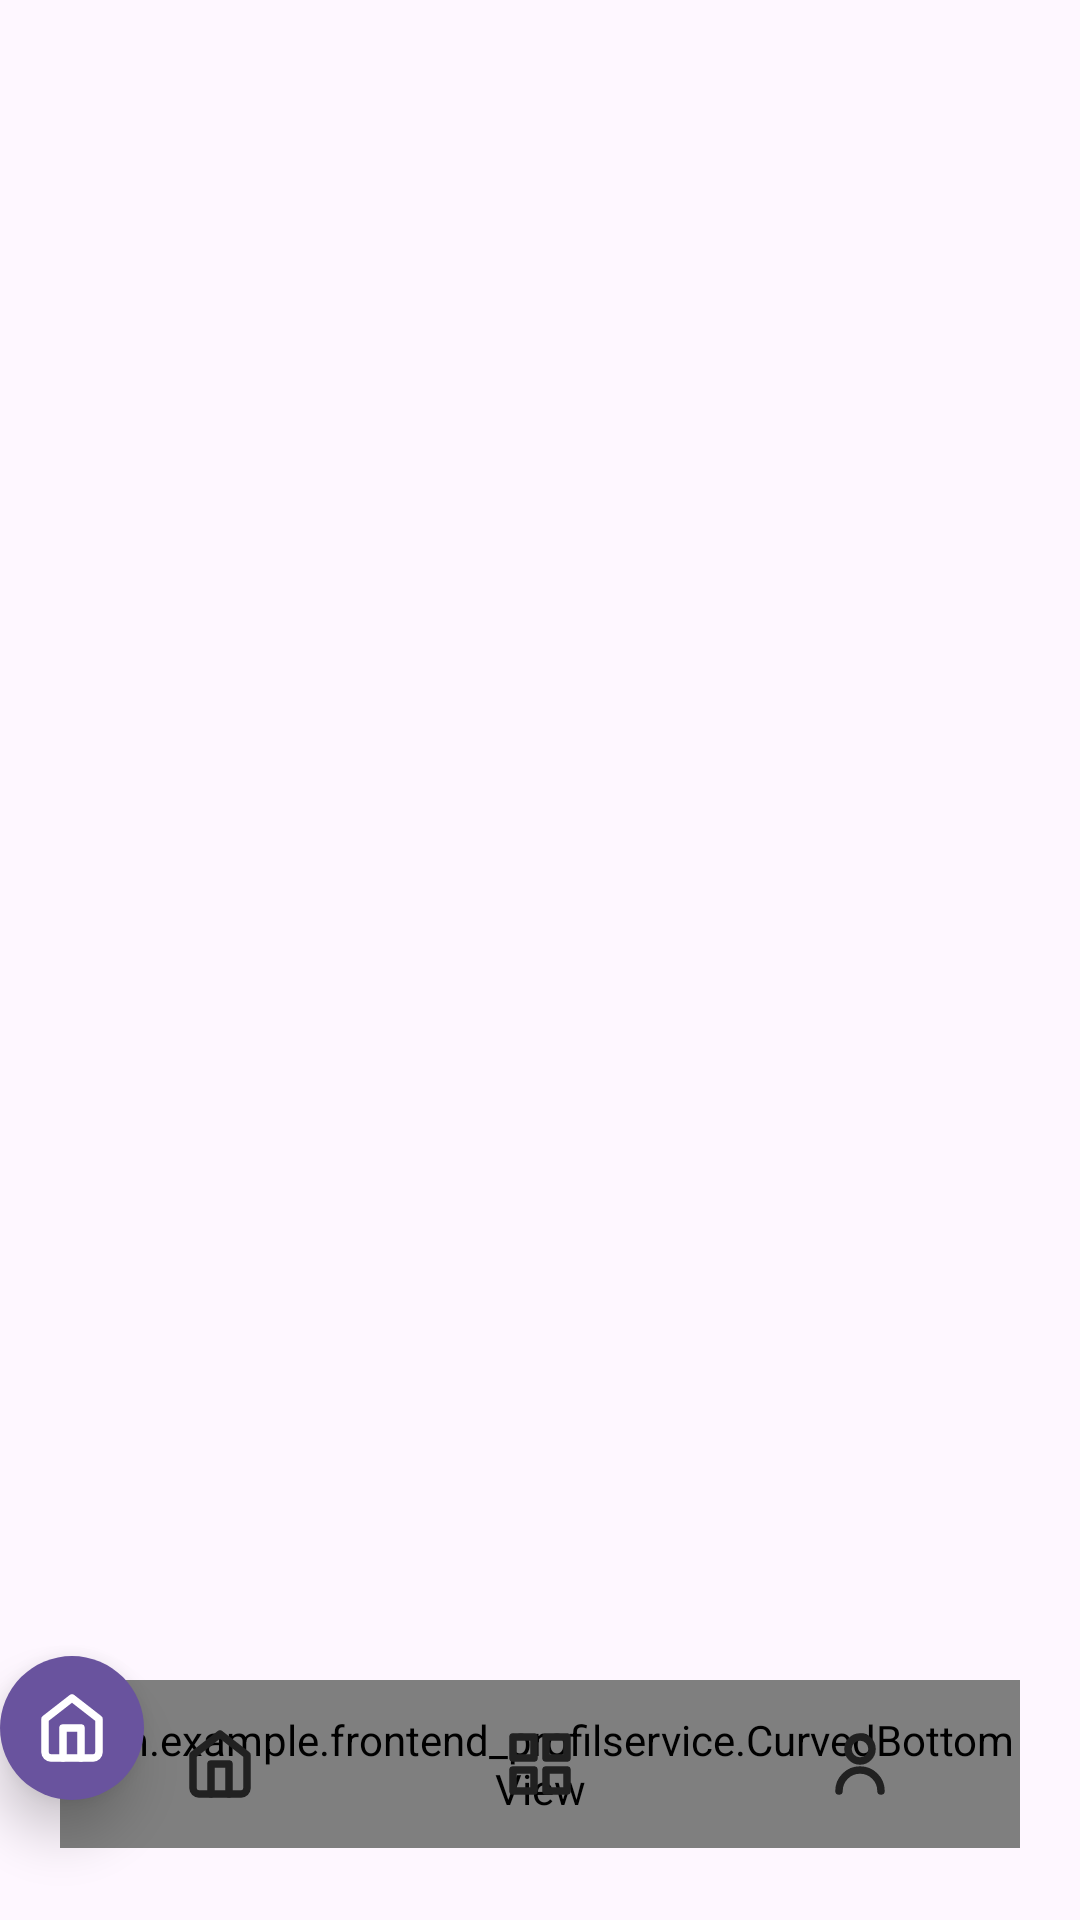

Icons on this 1080px×1920px Android screen, each with its box as (left=x1, top=y1, right=x2, bottom=y2):
dashboard: (left=504, top=1728, right=576, bottom=1800)
home: (left=41, top=1694, right=103, bottom=1762), (left=184, top=1730, right=256, bottom=1798)
profile: (left=832, top=1728, right=896, bottom=1795)
